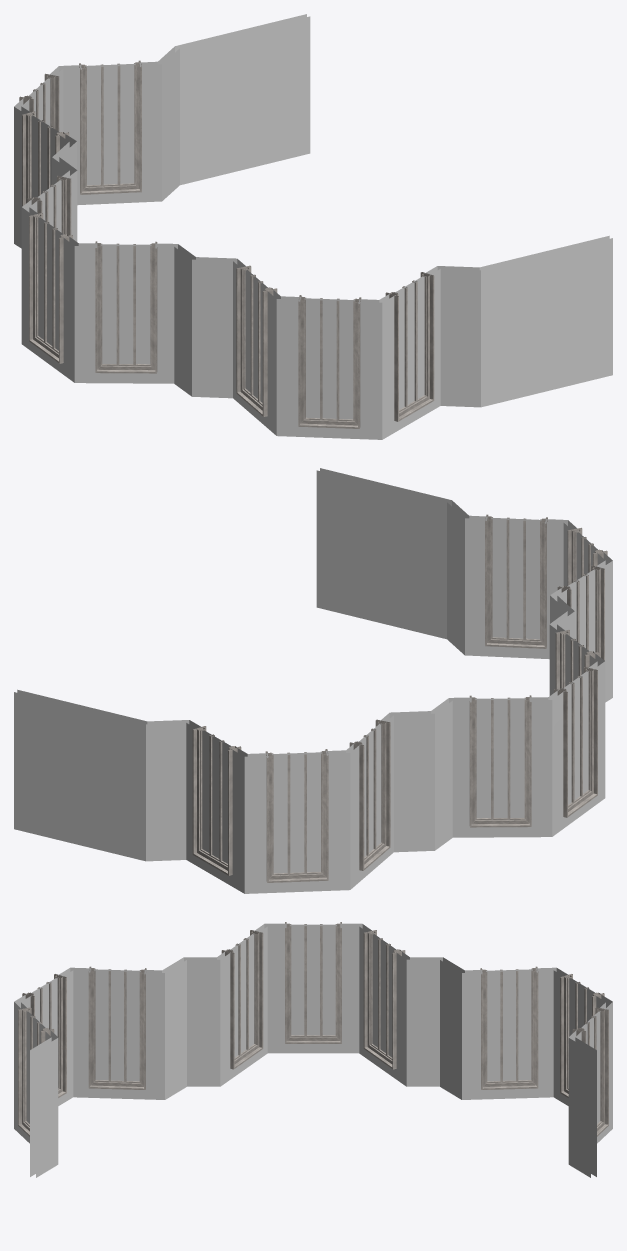
File: Ambulatory_Outer_A_E.fbx
3 views of the same model, one above another, from view 1: azimuth 30°, elevation 25°; view 2: azimuth 150°, elevation 25°; view 3: azimuth 270°, elevation 25° (orthographic). The views are drawn at different scales.
Parts seen in each view (by area): view 1: Ambulatory_Outer_A_E; view 2: Ambulatory_Outer_A_E; view 3: Ambulatory_Outer_A_E.
Part boxes in pixels (bbox=[...]): Ambulatory_Outer_A_E: bbox=[14, 14, 612, 439]; Ambulatory_Outer_A_E: bbox=[14, 468, 612, 893]; Ambulatory_Outer_A_E: bbox=[14, 922, 612, 1177].
Size of the model in its own units: 19.02 by 25.64 by 6.
